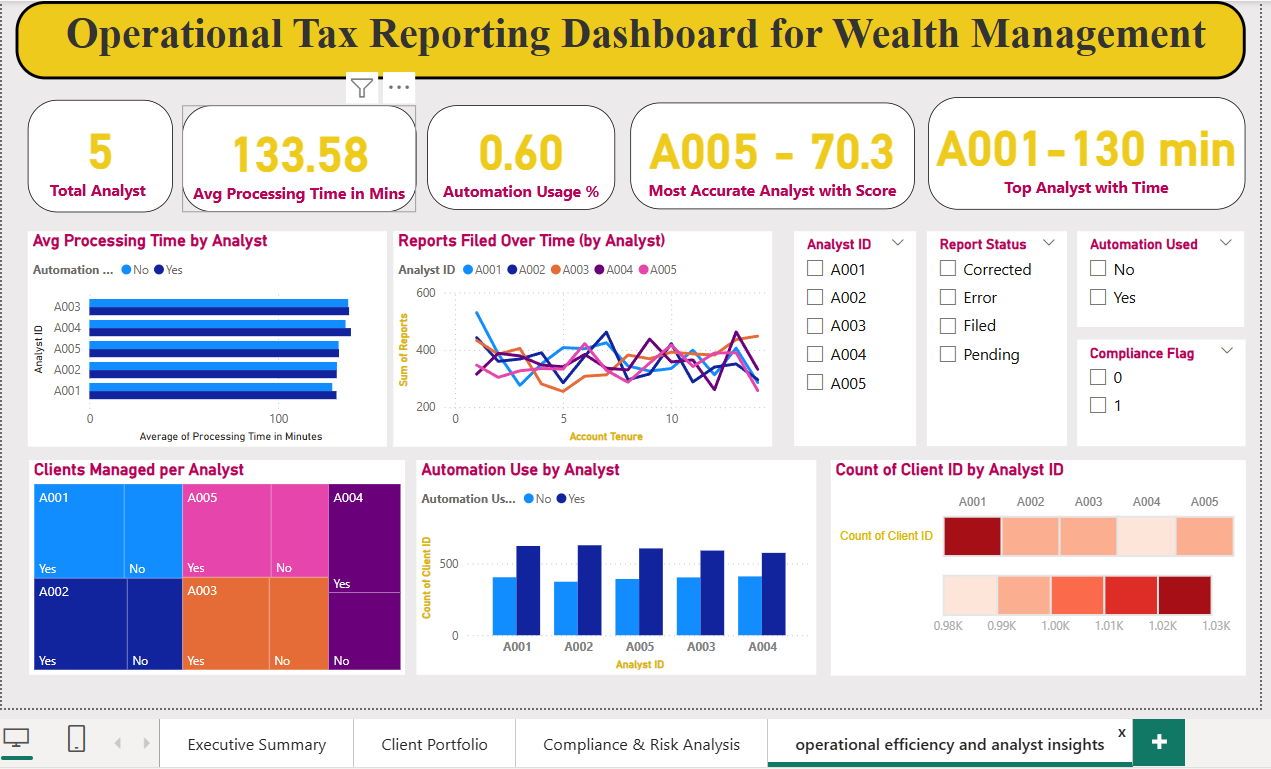

What the dashboard file says about the page in this screenshot:
{"tool":"powerbi","page":{"name":"operational efficiency and analyst insights","canvas":[1280,720],"ordinal":3},"visuals":[{"type":"textbox","box":[13.3,0,1251.5,79.8],"z":0},{"type":"card","fields":{"Values":["Count(ClientData.Analyst ID)"]},"box":[26.2,100.6,147.4,114.4],"z":1000},{"type":"card","fields":{"Values":["Avg(ClientData.Processing Time in Minutes)"]},"box":[183.3,106.1,238.4,108.9],"z":2000},{"type":"card","fields":{"Values":["ClientData.Automation Usage %"]},"box":[432.7,106.1,191.5,106.1],"z":3000},{"type":"card","fields":{"Values":["ClientData.Top Analyst with Time"]},"box":[639.3,103.3,289.4,108.9],"z":4000},{"type":"card","fields":{"Values":["ClientData.Top Analyst with Time"]},"box":[942.5,97.8,322.4,114.4],"z":5000},{"type":"clusteredBarChart","title":"Avg Processing Time by Analyst","fields":{"Y":["Avg(ClientData.Processing Time in Minutes)"],"Category":["ClientData.Analyst ID"],"Series":["ClientData.Automation Used"]},"box":[26.6,234.3,365.6,219.4],"z":6000},{"type":"treemap","title":"Clients Managed per Analyst","fields":{"Group":["ClientData.Analyst ID"],"Values":["CountNonNull(ClientData.Client ID)"],"Details":["ClientData.Automation Used"]},"box":[27.1,467.1,382.9,218.6],"z":7000},{"type":"lineChart","title":"Reports Filed Over Time (by Analyst)","fields":{"Category":["ClientData.Account Tenure"],"Y":["Sum(ClientData.Reports)"],"Series":["ClientData.Analyst ID"]},"box":[398.9,234.3,385.6,219.4],"z":8000},{"type":"clusteredColumnChart","title":"Automation Use by Analyst","fields":{"Category":["ClientData.Analyst ID"],"Y":["Count(ClientData.Client ID)"],"Series":["ClientData.Automation Used"]},"box":[421.4,467.1,407.1,218.6],"z":9000},{"type":"TableHeatMap1443716069308","fields":{"Category":["ClientData.Analyst ID"],"Y":["Count(ClientData.Client ID)"]},"box":[842.6,467,422.1,219.4],"z":10000},{"type":"slicer","fields":{"Values":["ClientData.Analyst ID"]},"box":[805.7,234.3,124.3,218.6],"z":11000},{"type":"slicer","fields":{"Values":["ClientData.Report Status"]},"box":[941.4,234.3,142.9,218.6],"z":12000},{"type":"slicer","fields":{"Values":["ClientData.Automation Used"]},"box":[1094.3,234.3,170,97.1],"z":13000},{"type":"slicer","fields":{"Values":["ClientData.Compliance Flag"]},"box":[1094.3,344.3,171.4,108.6],"z":14000}]}

Visuals, with their boxes on the page's 1280x720 design canvas (x1, y1, x2, y2). These are canvas units, not pixel positions in the 1271x769 screenshot, which may show the page scaled, cropped or inside an application window:
textbox: l=13, t=0, r=1265, b=80
card - Count(ClientData.Analyst ID): l=26, t=101, r=174, b=215
card - Avg(ClientData.Processing Time in Minutes): l=183, t=106, r=422, b=215
card - ClientData.Automation Usage %: l=433, t=106, r=624, b=212
card - ClientData.Top Analyst with Time: l=639, t=103, r=929, b=212
card - ClientData.Top Analyst with Time: l=942, t=98, r=1265, b=212
"Avg Processing Time by Analyst" clusteredBarChart: l=27, t=234, r=392, b=454
"Clients Managed per Analyst" treemap: l=27, t=467, r=410, b=686
"Reports Filed Over Time (by Analyst)" lineChart: l=399, t=234, r=784, b=454
"Automation Use by Analyst" clusteredColumnChart: l=421, t=467, r=828, b=686
TableHeatMap1443716069308 - ClientData.Analyst ID x Count(ClientData.Client ID): l=843, t=467, r=1265, b=686
slicer - ClientData.Analyst ID: l=806, t=234, r=930, b=453
slicer - ClientData.Report Status: l=941, t=234, r=1084, b=453
slicer - ClientData.Automation Used: l=1094, t=234, r=1264, b=331
slicer - ClientData.Compliance Flag: l=1094, t=344, r=1266, b=453
